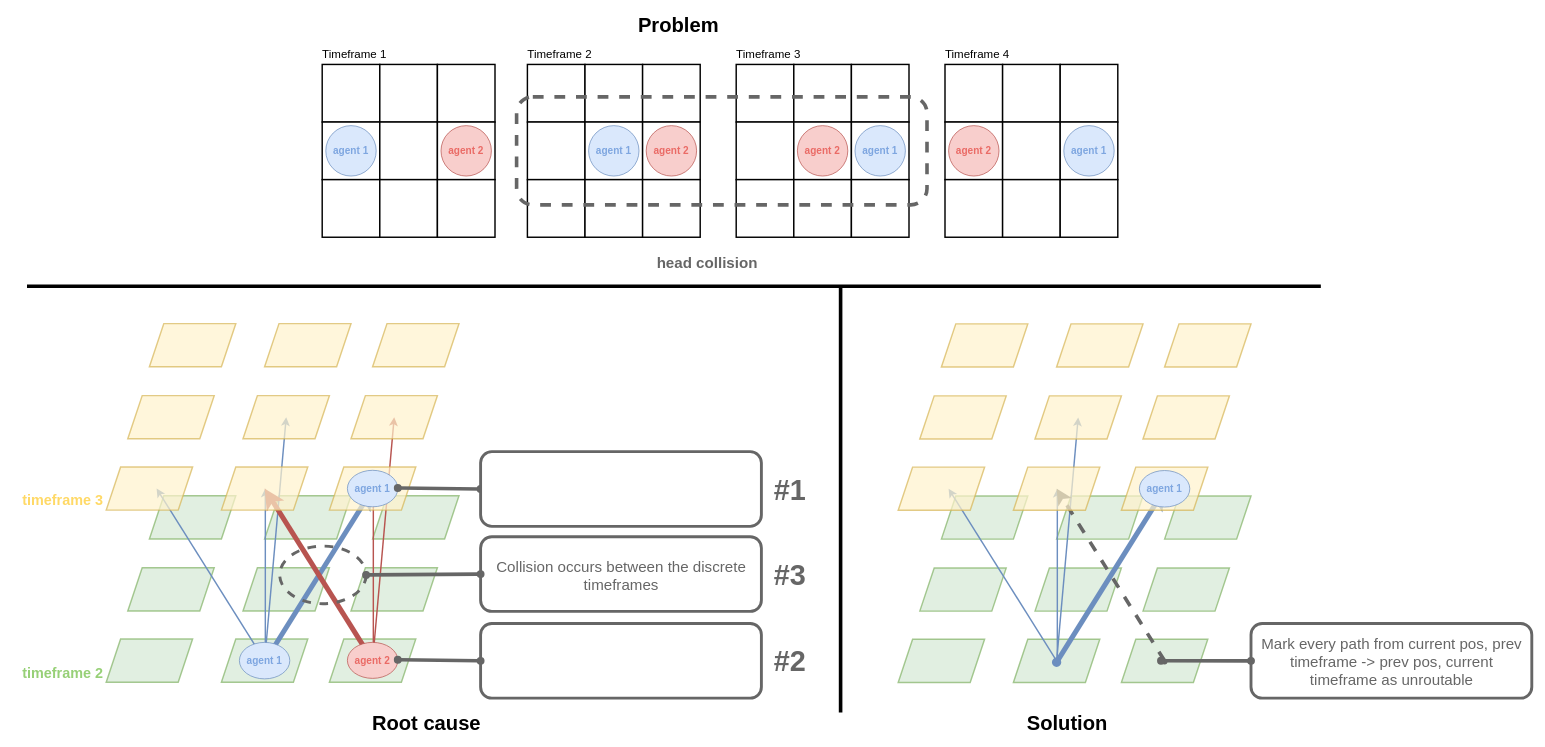
Some shapes in this 1545 by 747 pixel diagram are drawn without their labels. Here are the shapes that lost their labels. From the top down, the box of each, then its label:
(479, 450, 762, 527): Agent one is first to plan so it chose to occupy any tile
(479, 622, 762, 699): Agent two assumes that tile previously occupied by agent one is free
